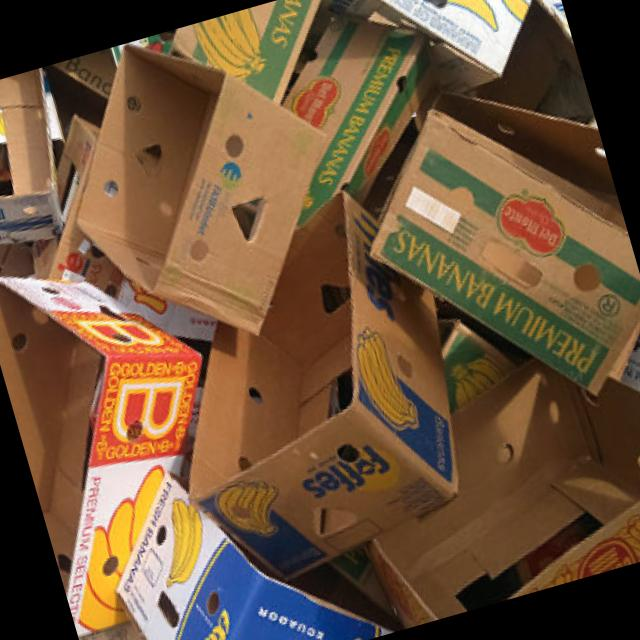Kardus: (0, 0, 640, 640), (118, 172, 482, 596), (25, 2, 372, 378), (336, 63, 640, 439), (0, 226, 265, 636)
